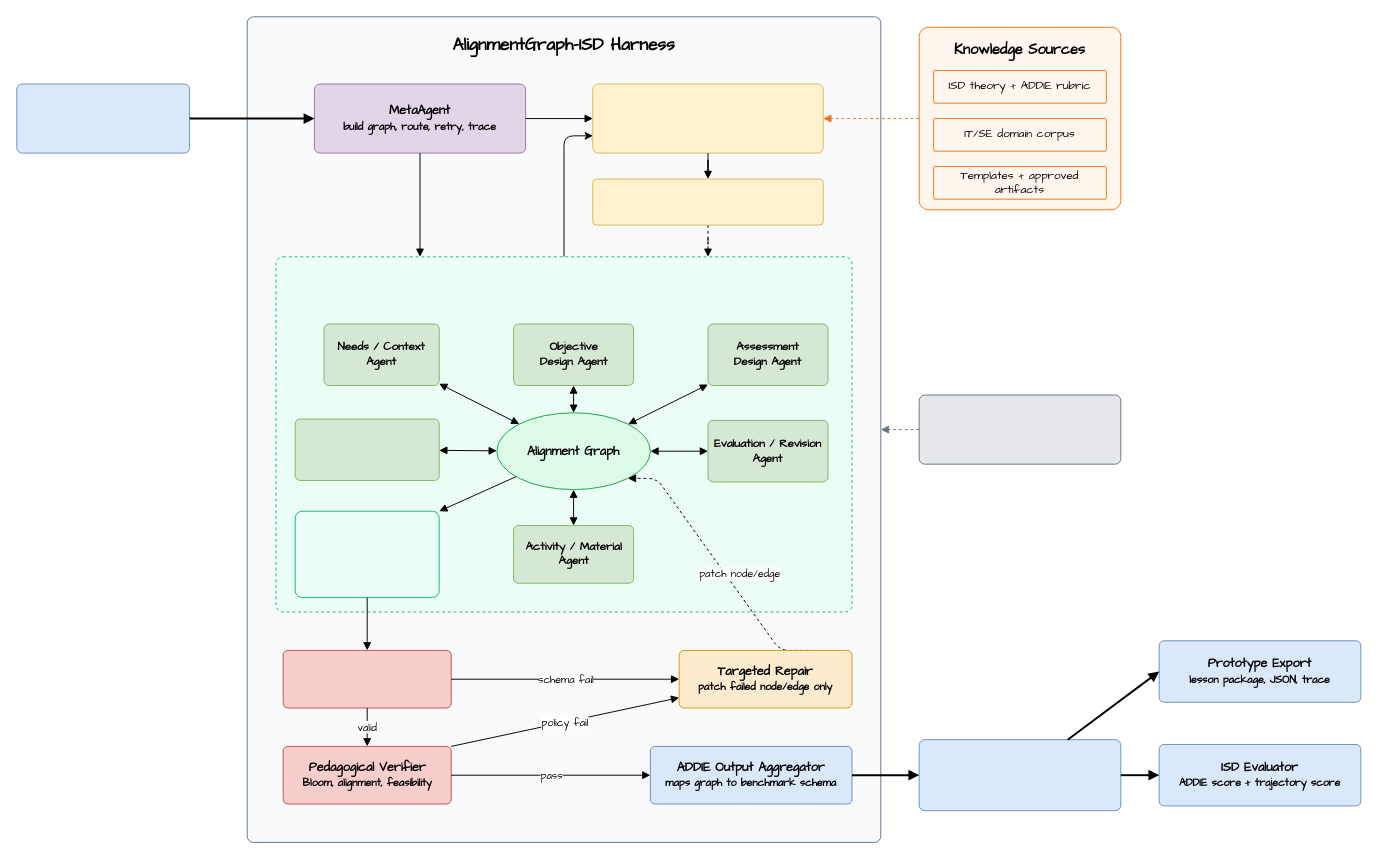
This 1378x859 diagram has some shape labels left out. The shapes that lost their labels are listed below. From the top down, each one's box as (x1, y1, x2, y2) in pixels, then its label:
(16, 83, 190, 153): Teacher Request
(592, 83, 823, 153): Agentic RAG + Tool Layer task query planning, retrieval, reranking
(592, 178, 823, 225): ContextPack by Task not one global prompt
(294, 418, 439, 480): Implementation Constraint Agent
(275, 256, 852, 612): Dynamic ISD Task Graph ADDIE is output contract, not execution order
(918, 394, 1121, 464): Model Runtime cloud or local LLM/SLM
(294, 510, 439, 598): Validated Graph Elements artifact nodes + alignment edges
(282, 649, 451, 708): Schema Validation node/edge + ADDIE schema
(918, 739, 1121, 811): ADDIE Output + Trajectory + Metadata
